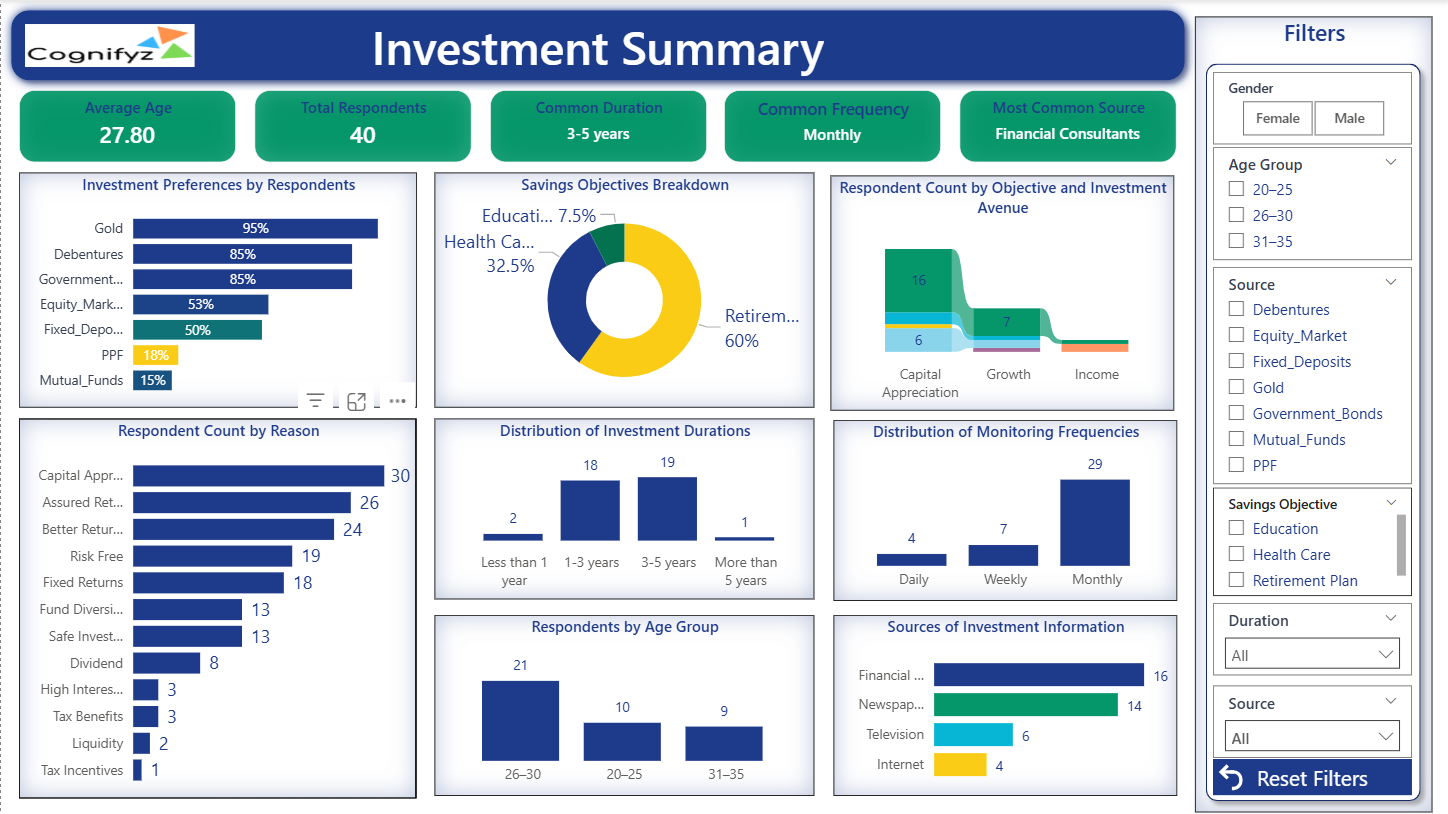

Layout of this report page (visuals, bound fields, positions):
{"tool":"powerbi","page":{"name":"Task 7","canvas":[1280,720],"ordinal":6},"visuals":[{"type":"shape","title":"Task 4 – Investment Duration & Monitoring Frequency","box":[0,0,1056,80],"z":0},{"type":"shape","title":"Filters","box":[1056,14,210,704],"z":0,"group":"g1"},{"type":"image","box":[16,16,160,48],"z":1000},{"type":"group","id":"g1","title":"Group 1","box":[1056,14,210,704],"z":2000},{"type":"slicer","title":"Age ","fields":{"Values":["Survey.Reason"]},"box":[1072,606,176,64],"z":3000},{"type":"slicer","title":"Age ","fields":{"Values":["Survey.Investment_Avenue"]},"box":[1072,236,176,192],"z":4000},{"type":"card","title":"Average Age","fields":{"Values":["Survey.Average Age"]},"box":[16,80,192,64],"z":5000},{"type":"card","title":"Total Respondents","fields":{"Values":["Survey.Total Respondents"]},"box":[224,80,192,64],"z":6000},{"type":"card","title":"Common Duration","fields":{"Values":["Min(Survey.Most Common Duration1)"]},"box":[432,80,192,64],"z":7000},{"type":"slicer","title":"Age ","fields":{"Values":["Survey.AgeGroup"]},"box":[1072,129,176,100],"z":7000,"group":"g1"},{"type":"card","title":"Common Frequency","fields":{"Values":["Survey.Most Common Frequency"]},"box":[640,80,192,64],"z":8000},{"type":"slicer","fields":{"Values":["Survey.What are your savings objectives?"]},"box":[1072,431,176,96],"z":8000,"group":"g1"},{"type":"card","title":"Most Common Source","fields":{"Values":["Survey.Most Common Source"]},"box":[848,80,192,64],"z":9000},{"type":"slicer","fields":{"Values":["Survey.Duration"]},"box":[1072,533,176,64],"z":9000,"group":"g1"},{"type":"clusteredBarChart","title":"Investment Preferences by Respondents","fields":{"Category":["Survey.Investment_Avenue"],"Y":["Survey.Investors4 %"]},"box":[16,152,352,208],"z":10000},{"type":"slicer","title":"Age ","fields":{"Values":["Survey.Gender"]},"box":[1072,64,176,64],"z":10001},{"type":"donutChart","title":"Savings Objectives Breakdown","fields":{"Category":["Survey.What are your savings objectives?"],"Y":["Survey.Total Respondents"]},"box":[384,153,336,208],"z":10002},{"type":"columnChart","title":"Respondent Count by Objective and Investment Avenue","fields":{"Series":["Survey.Investment_Avenue"],"Y":["Survey.Respondents Count"],"Category":["Survey.Objective"]},"box":[734,155,304,208],"z":10003},{"type":"clusteredColumnChart","title":"Distribution of Investment Durations","fields":{"Y":["Survey.Respondents Count"],"Category":["DurationMap.Duration"]},"box":[384,370,336,160],"z":10004},{"type":"clusteredColumnChart","title":"Distribution of Monitoring Frequencies","fields":{"Category":["MonitorMap.Invest_Monitor"],"Y":["Survey.Respondents Count"]},"box":[736,372,304,160],"z":10005},{"type":"barChart","fields":{"Category":["Survey.Reason"],"Y":["Survey.Respondent Count"]},"box":[16,370,352,336],"z":10006},{"type":"barChart","title":"Sources of Investment Information","fields":{"Category":["Survey.Source"],"Y":["Survey.Source Count"],"Series":["Survey.Source"]},"box":[736,544,304,160],"z":10007},{"type":"clusteredColumnChart","title":"Respondents by Age Group","fields":{"Category":["Survey.AgeGroup"],"Y":["Survey.Total Respondents"]},"box":[384,544,336,160],"z":10008},{"type":"actionButton","box":[1072,672,176,32],"z":10009}]}

Visuals, with their boxes in screenshot pixels (x1, y1, x2, y2), scaled from the page's 1280x720 canvas onto the 1448x814 screenshot:
"Task 4 – Investment Duration & Monitoring Frequency" shape: left=0, top=0, right=1195, bottom=90
"Filters" shape: left=1195, top=16, right=1432, bottom=812
image: left=18, top=18, right=199, bottom=72
"Group 1" group: left=1195, top=16, right=1432, bottom=812
"Age " slicer: left=1213, top=685, right=1412, bottom=757
"Age " slicer: left=1213, top=267, right=1412, bottom=484
"Average Age" card: left=18, top=90, right=235, bottom=163
"Total Respondents" card: left=253, top=90, right=471, bottom=163
"Common Duration" card: left=489, top=90, right=706, bottom=163
"Age " slicer: left=1213, top=146, right=1412, bottom=259
"Common Frequency" card: left=724, top=90, right=941, bottom=163
slicer - Survey.What are your savings objectives?: left=1213, top=487, right=1412, bottom=596
"Most Common Source" card: left=959, top=90, right=1176, bottom=163
slicer - Survey.Duration: left=1213, top=603, right=1412, bottom=675
"Investment Preferences by Respondents" clusteredBarChart: left=18, top=172, right=416, bottom=407
"Age " slicer: left=1213, top=72, right=1412, bottom=145
"Savings Objectives Breakdown" donutChart: left=434, top=173, right=815, bottom=408
"Respondent Count by Objective and Investment Avenue" columnChart: left=830, top=175, right=1174, bottom=410
"Distribution of Investment Durations" clusteredColumnChart: left=434, top=418, right=815, bottom=599
"Distribution of Monitoring Frequencies" clusteredColumnChart: left=833, top=421, right=1176, bottom=601
barChart - Survey.Reason x Survey.Respondent Count: left=18, top=418, right=416, bottom=798
"Sources of Investment Information" barChart: left=833, top=615, right=1176, bottom=796
"Respondents by Age Group" clusteredColumnChart: left=434, top=615, right=815, bottom=796
actionButton: left=1213, top=760, right=1412, bottom=796
